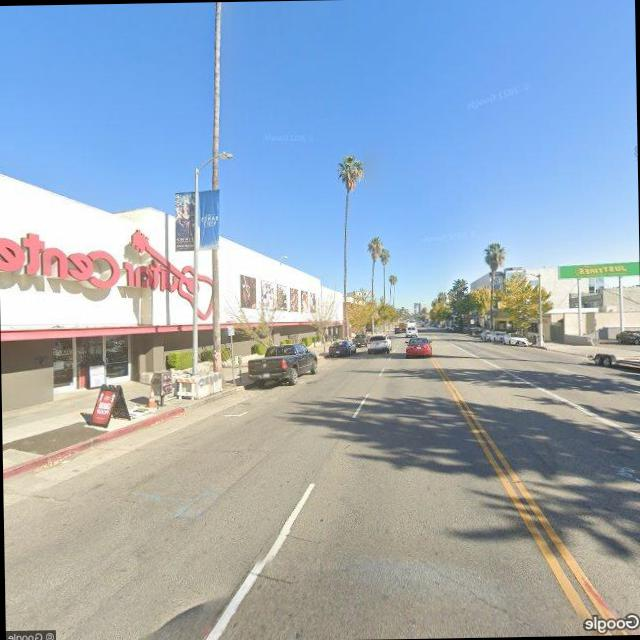pothole: (442, 572, 516, 615)
